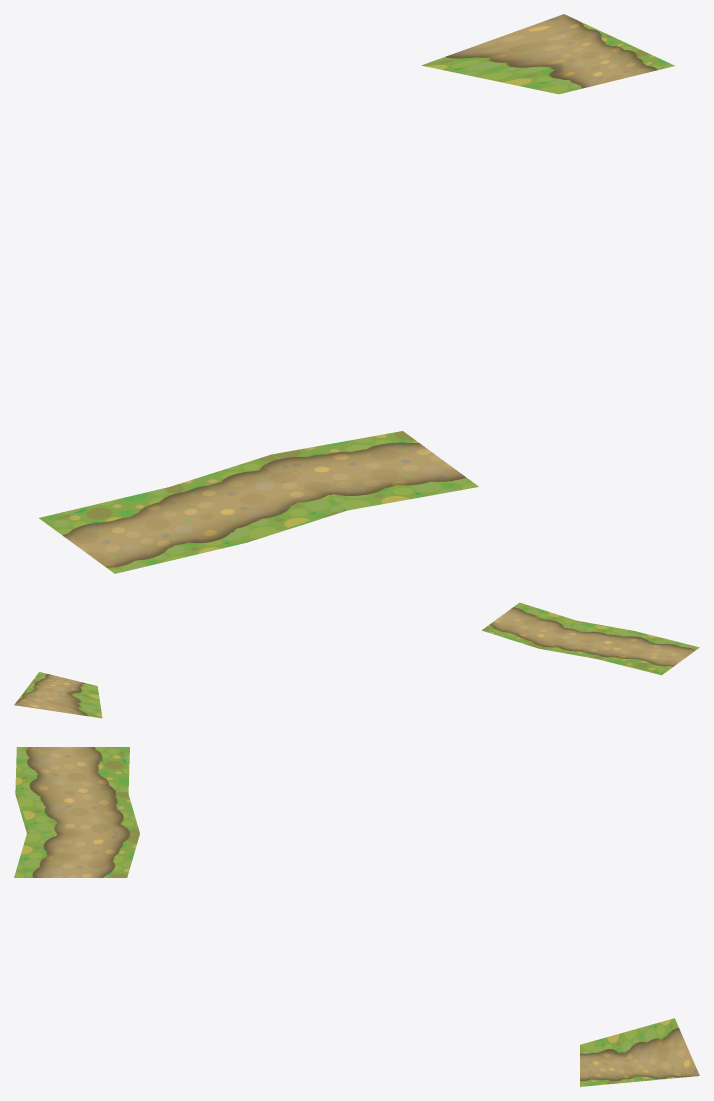
The picture shows the model from 3 angles, top to bottom: view 1: azimuth 30°, elevation 25°; view 2: azimuth 150°, elevation 25°; view 3: azimuth 270°, elevation 25°; orthographic projection. The views are drawn at different scales.
Parts seen in each view (by area): view 1: Deko_L_Shape suburb O; view 2: Deko_L_Shape suburb O; view 3: Deko_L_Shape suburb O.
Boxes of the visible parts, <box> form: Deko_L_Shape suburb O: <box>39,14,674,573</box>; Deko_L_Shape suburb O: <box>14,602,699,718</box>; Deko_L_Shape suburb O: <box>14,747,699,1086</box>.
Size of the model in its own units: 16.12 by 0 by 13.75.
Materials: 1 (1 with a texture image).
